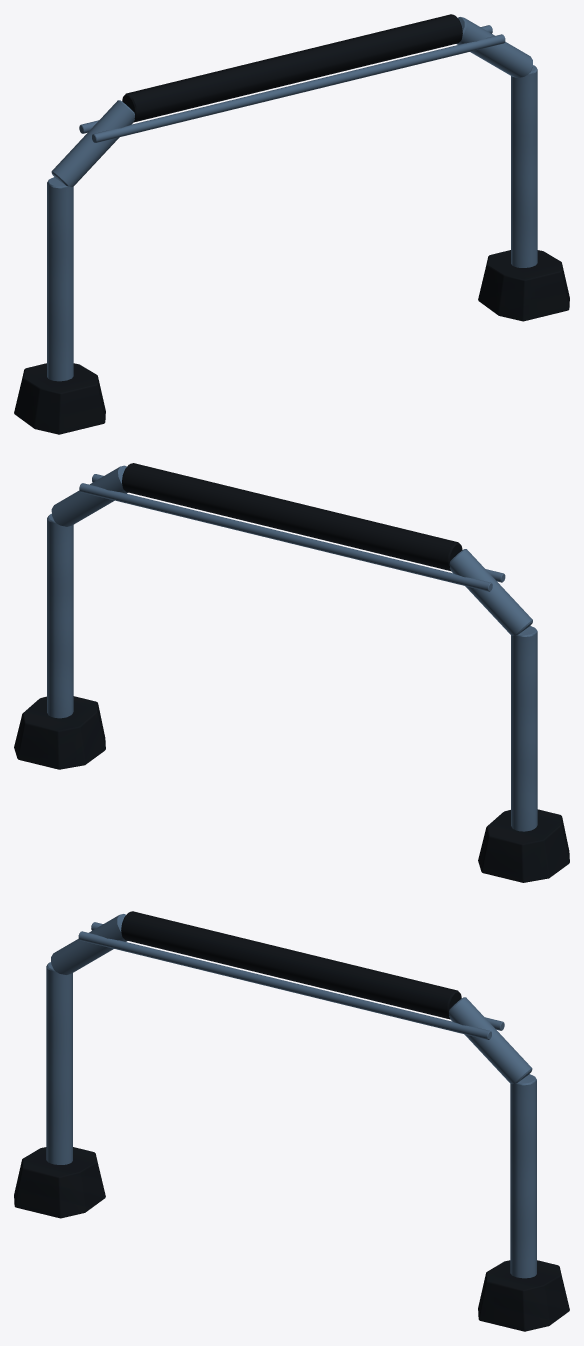
Rendered from Service_Arch.fbx.
The picture shows the model from 3 angles, top to bottom: view 1: azimuth 30°, elevation 25°; view 2: azimuth 150°, elevation 25°; view 3: azimuth 330°, elevation 25°; orthographic projection.
Visible parts, largest first — view 1: Service_Arch; view 2: Service_Arch; view 3: Service_Arch.
Part boxes in pixels (x1,y1,x2,y2): Service_Arch: (14,14,569,434); Service_Arch: (14,463,569,882); Service_Arch: (14,911,569,1331).
Bounding box in the file's own units: 7.85 × 4.23 × 1.12.
